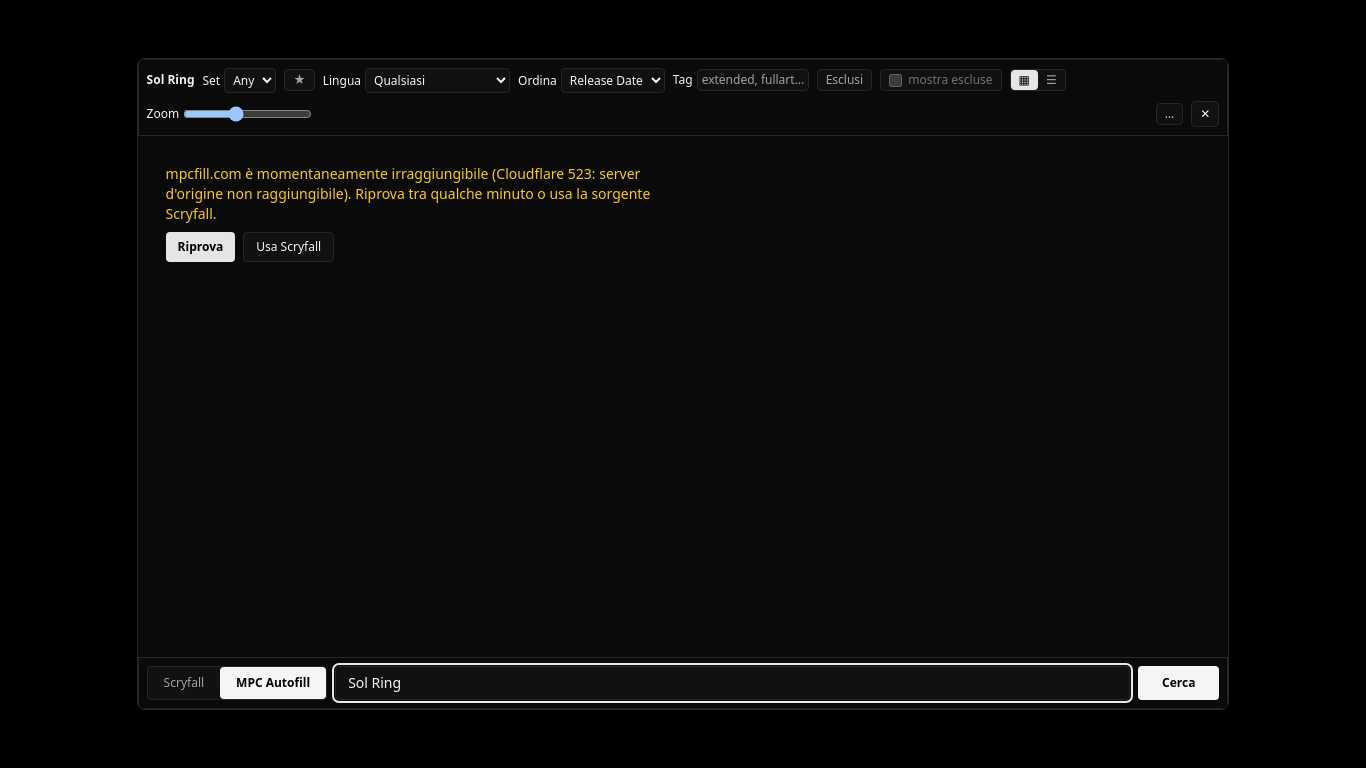
Scenario: PrintPicker › errore 523: messaggio dedicato, un retry, Riprova e passaggio a Scryfall
Check: the message with test id "prints-error" shows "Cloudflare 523", box x1=166 y1=164 x2=650 y2=223
Check: the button with test id "prints-retry" is shown, box x1=166 y1=232 x2=235 y2=262
# "Usa Scryfall" cambia sorgente e carica le stampe Scryfall
Click the button with test id "prints-use-scryfall" at (289, 247), box x1=243 y1=232 x2=334 y2=262
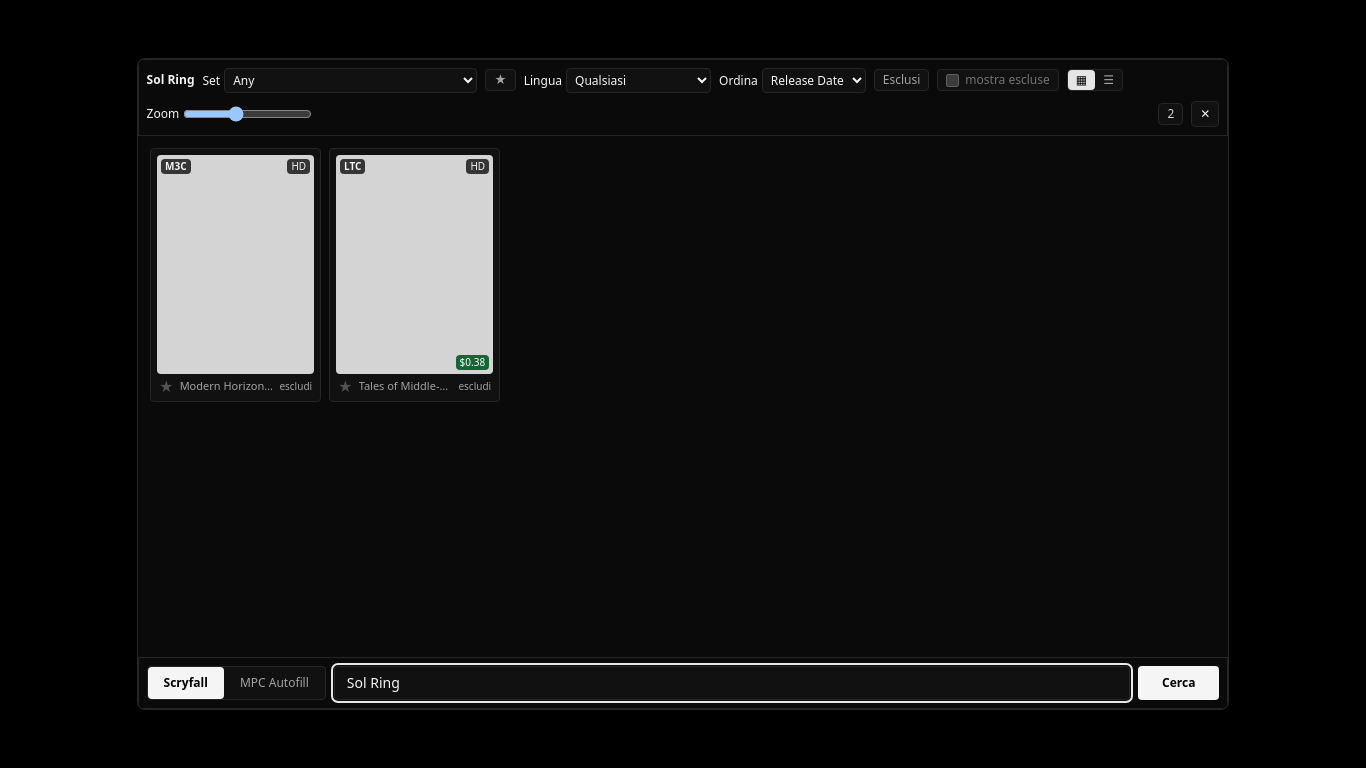
Check: the message with test id "prints-error" is gone
